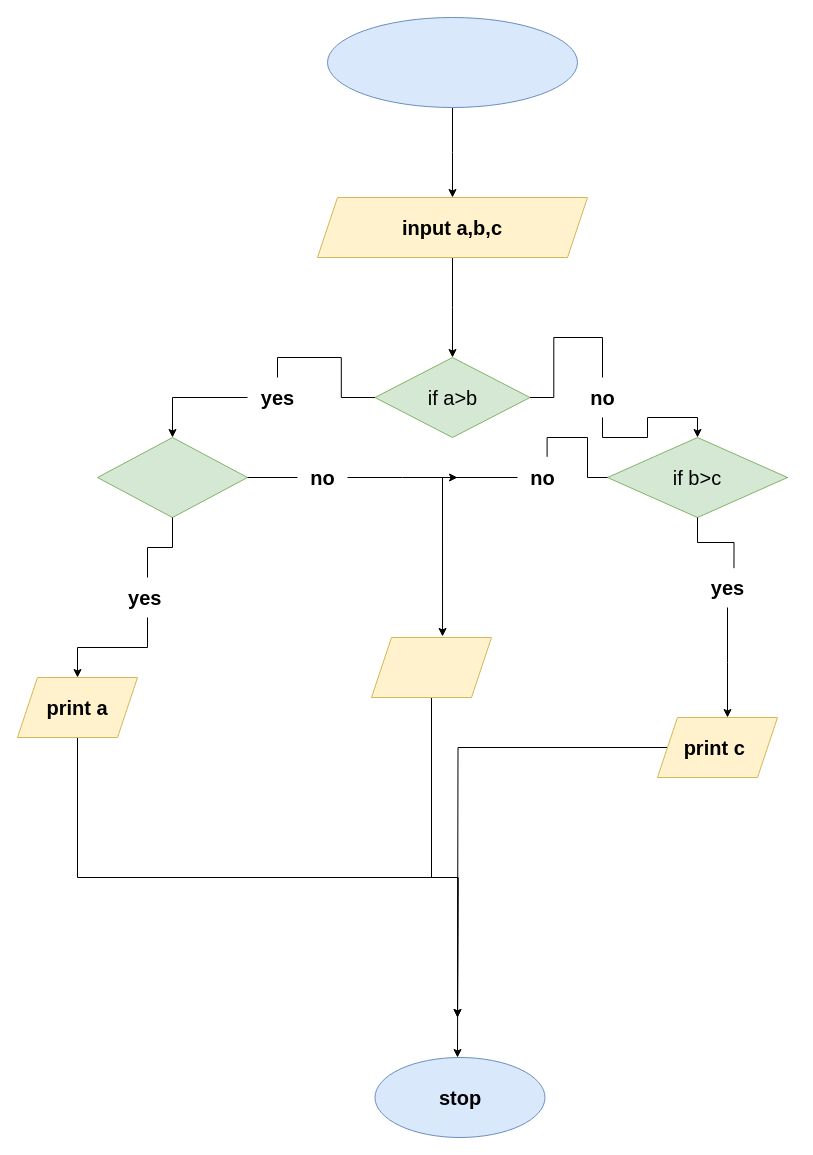
Image size: 813x1155. Some labels were removed from this diagram. Each missing label, with the centre of its shape:
"if a>c" belongs at (172,477).
"print b" belongs at (431,667).
"start" belongs at (452,62).
